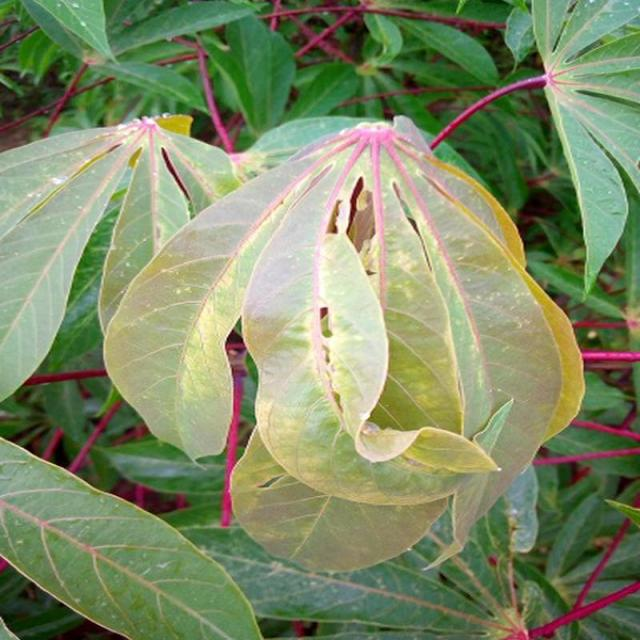cassava leaf: (102, 114, 586, 574), (0, 111, 242, 404), (0, 435, 263, 638)
